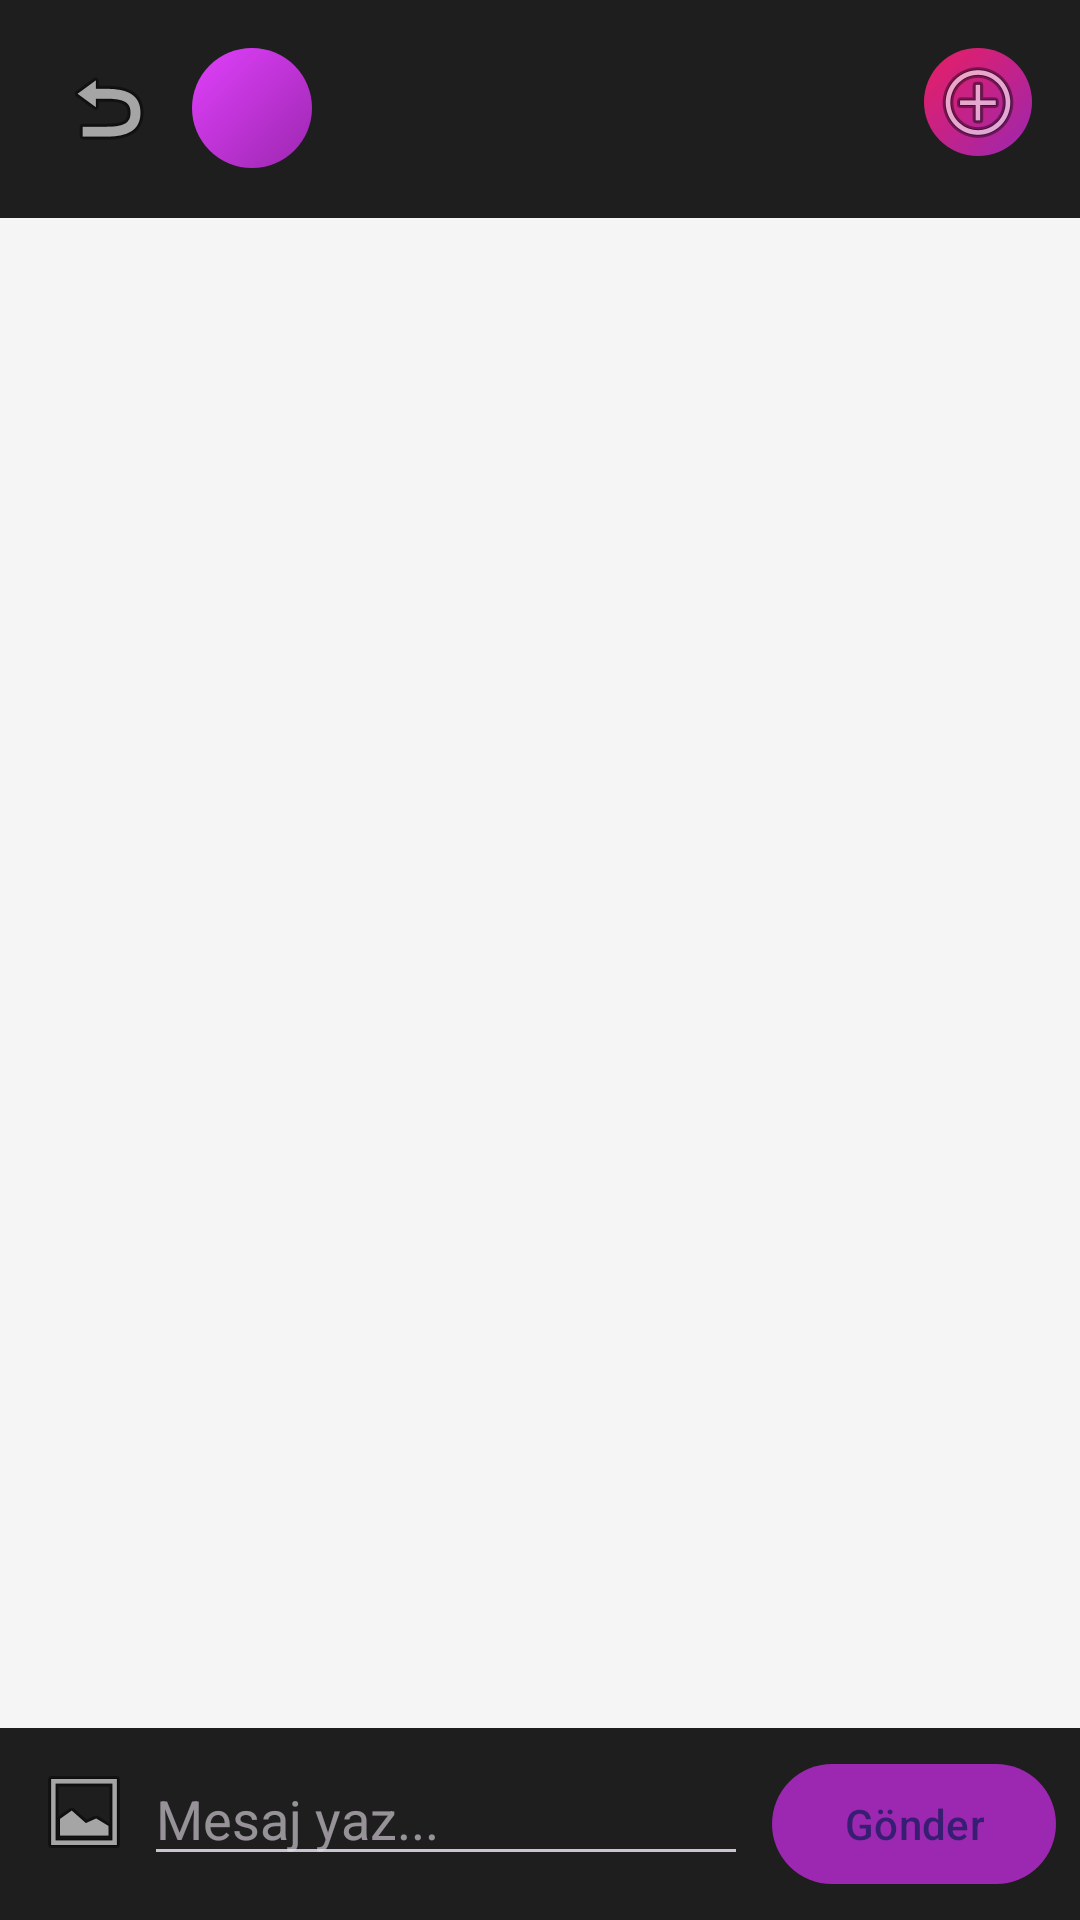

Named icons in this screenshot (1080 × 1920) and their bounding boxes, box(x1, y1, x2, y2):
add: box(924, 48, 1032, 156)
Fotoğraf gönder: box(48, 1776, 120, 1848)
revert: box(78, 80, 141, 137)
